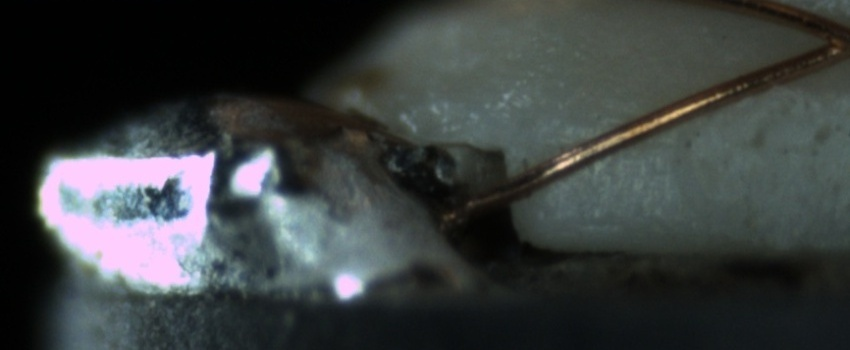CL: (798, 12, 850, 72)
